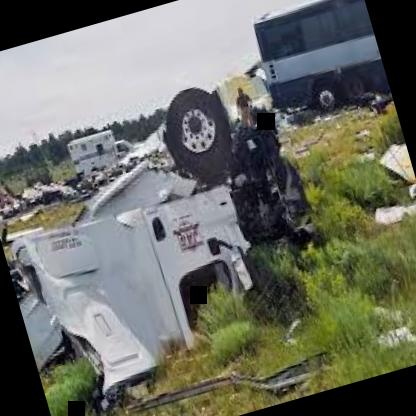accident: (0, 57, 362, 416)
